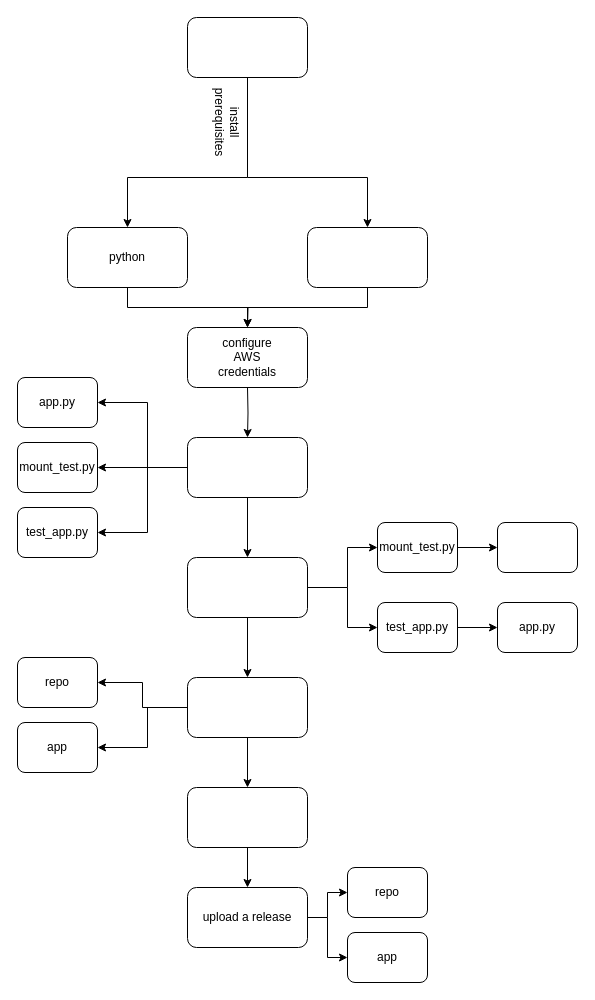
The diagram is 595 pixels wide and 1000 high, and some of its shapes have lost their labels. The box of each missing label's shape, as (x1, y1, x2, y2) in pixels:
Checkout: (186, 16, 308, 78)
create zip file of the app: (186, 786, 308, 848)
mount.sh: (496, 522, 578, 572)
python packages: (306, 226, 428, 288)
run flake8 linter: (186, 436, 308, 498)
run pytest: (186, 556, 308, 618)
semantic versioning: (186, 676, 308, 738)
